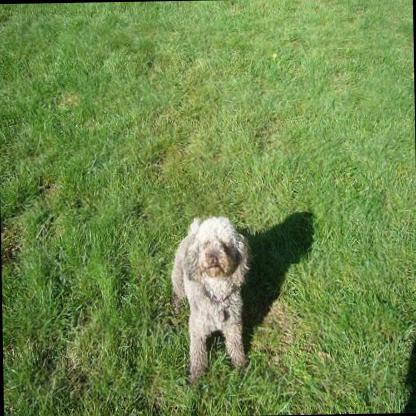miniature_poodle: (166, 212, 250, 379)
